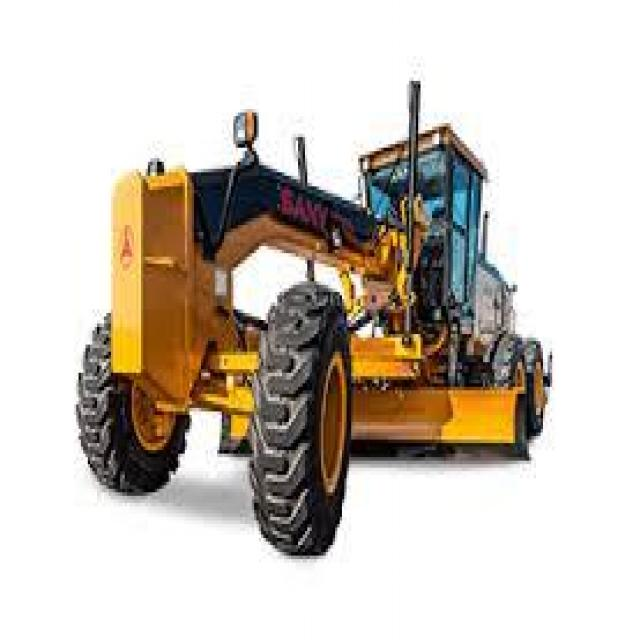Grader: (56, 81, 568, 524)
